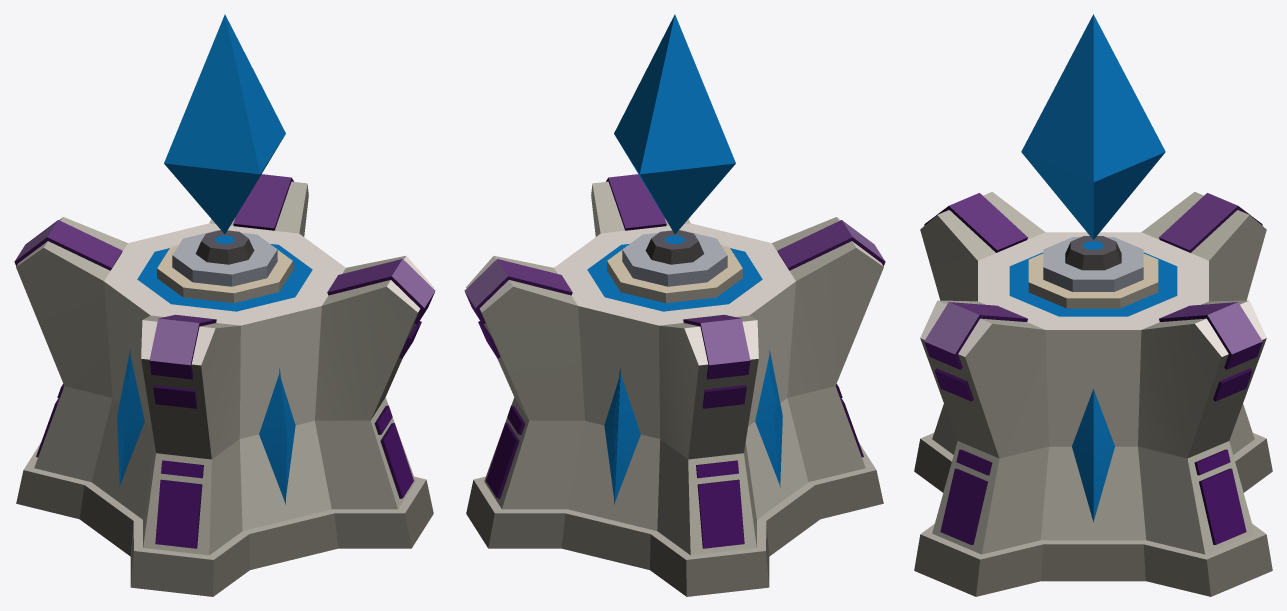
File: MageTower_Lv3.obj
3 renders of one model, left to right at view 1: azimuth 30°, elevation 25°; view 2: azimuth 150°, elevation 25°; view 3: azimuth 270°, elevation 25°, orthographic. The views are drawn at different scales.
Parts seen in each view (by area): view 1: MageTower_Lv3; view 2: MageTower_Lv3; view 3: MageTower_Lv3.
Part boxes in pixels (bbox=[...]): MageTower_Lv3: bbox=[14, 14, 435, 596]; MageTower_Lv3: bbox=[464, 14, 885, 596]; MageTower_Lv3: bbox=[914, 14, 1272, 596].
Bounding box in the file's own units: 7.48 × 11.67 × 7.48.
Materials: 1 (1 with a texture image).
